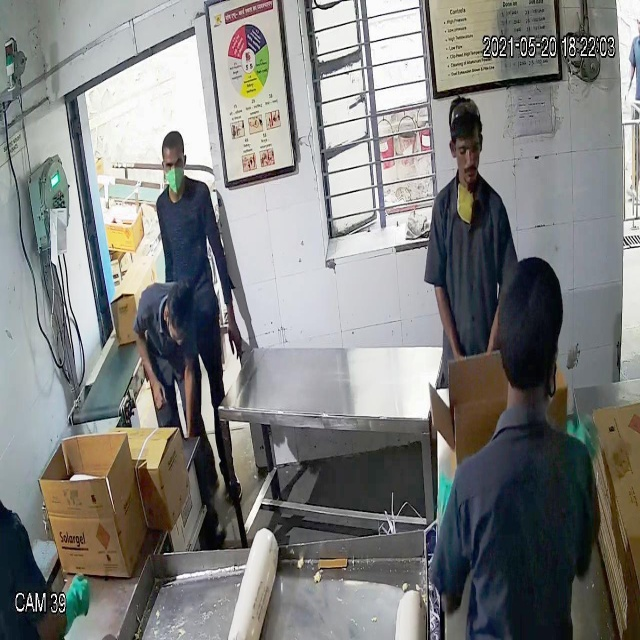Sin_gafas: (447, 136, 482, 164), (161, 153, 189, 174)
